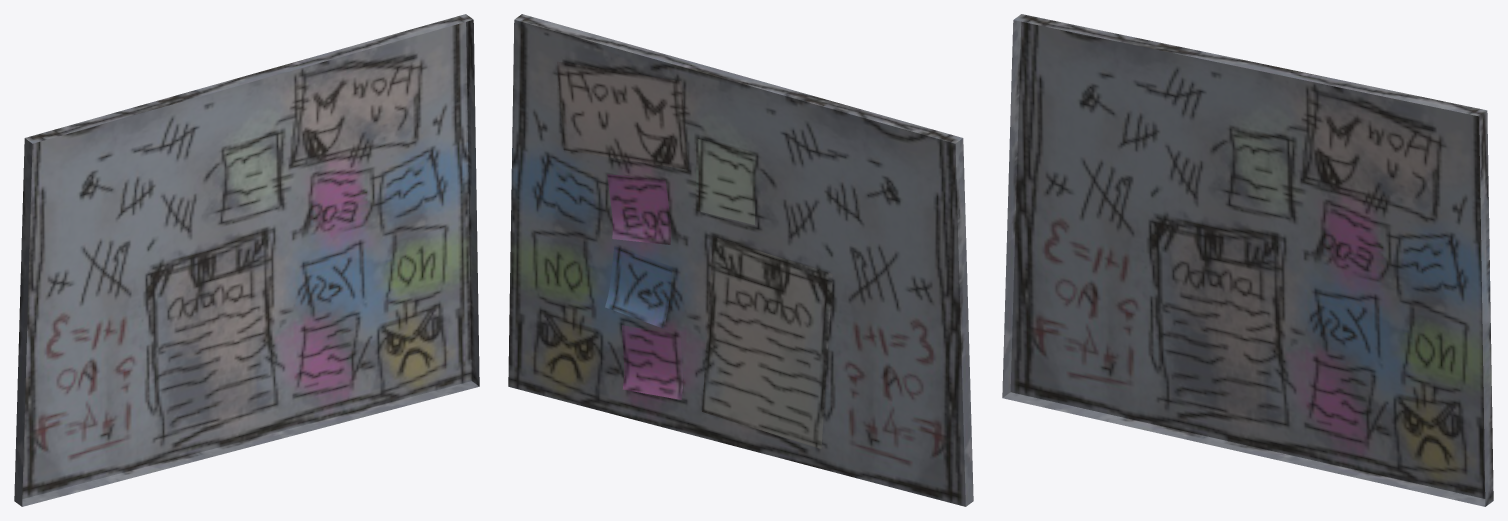
The model's file is doskabumaga.fbx.
The picture shows the model from 3 angles, left to right: view 1: azimuth 30°, elevation 25°; view 2: azimuth 150°, elevation 25°; view 3: azimuth 330°, elevation 25°; orthographic projection. The views are drawn at different scales.
Visible parts, largest first — view 1: Boxes.026; view 2: Boxes.026; view 3: Boxes.026.
Boxes of the visible parts, <box> form: Boxes.026: <box>14,14,479,506</box>; Boxes.026: <box>508,14,973,506</box>; Boxes.026: <box>1002,14,1493,506</box>.
Bounding box in the file's own units: 105 × 82.81 × 4.31.
